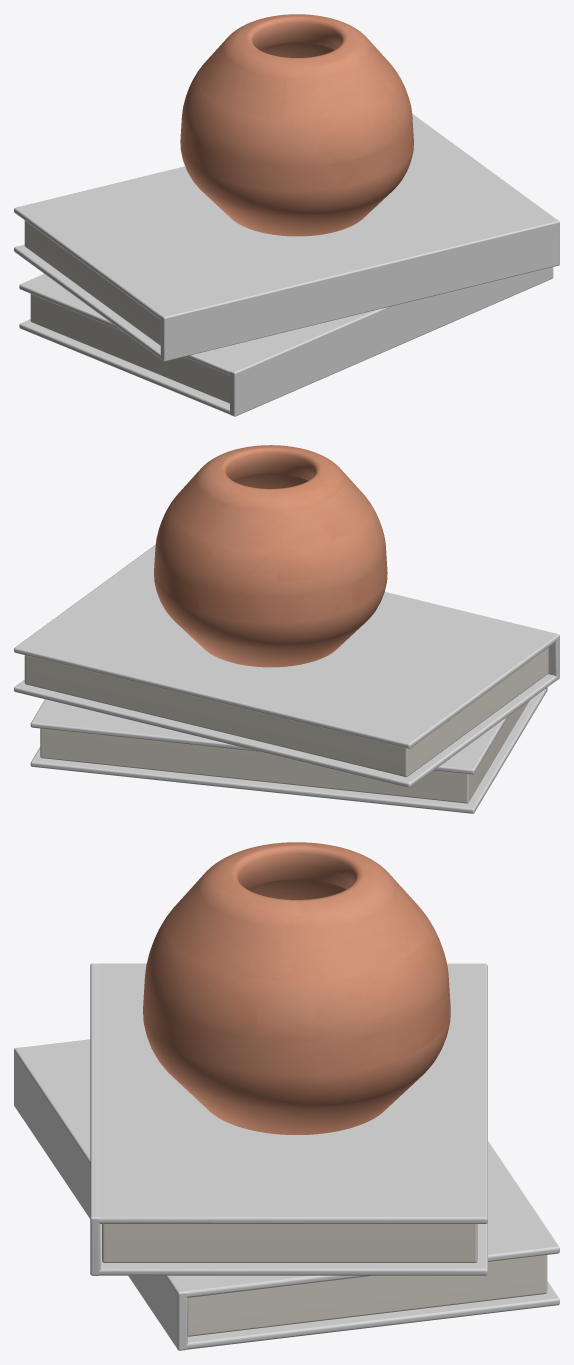
3 views of the same model, one above another, from view 1: azimuth 30°, elevation 25°; view 2: azimuth 150°, elevation 25°; view 3: azimuth 270°, elevation 25° (orthographic). The views are drawn at different scales.
Parts seen in each view (by area): view 1: Book_02_Cover, Small_Pot_On_Books, Book_01_Cover, Book_01_Pages, Book_02_Pages; view 2: Book_02_Cover, Small_Pot_On_Books, Book_02_Pages, Book_01_Pages, Book_01_Cover; view 3: Small_Pot_On_Books, Book_02_Cover, Book_01_Cover, Book_02_Pages, Book_01_Pages.
Boxes of the visible parts, x1,y1,x2,y2 form: Book_02_Cover: [14, 114, 559, 361]; Small_Pot_On_Books: [180, 14, 413, 236]; Book_01_Cover: [19, 267, 553, 416]; Book_01_Pages: [30, 294, 229, 403]; Book_02_Pages: [24, 220, 160, 345]; Book_02_Cover: [14, 545, 559, 787]; Small_Pot_On_Books: [154, 445, 387, 667]; Book_02_Pages: [24, 647, 548, 777]; Book_01_Pages: [40, 700, 529, 803]; Book_01_Cover: [30, 687, 547, 813]; Small_Pot_On_Books: [143, 842, 450, 1134]; Book_02_Cover: [90, 963, 487, 1275]; Book_01_Cover: [14, 1039, 559, 1350]; Book_02_Pages: [102, 1224, 477, 1262]; Book_01_Pages: [187, 1255, 547, 1336].
Bounding box in the file's own units: 0.2656 × 0.1458 × 0.2108.
3 materials, 1 textured.
